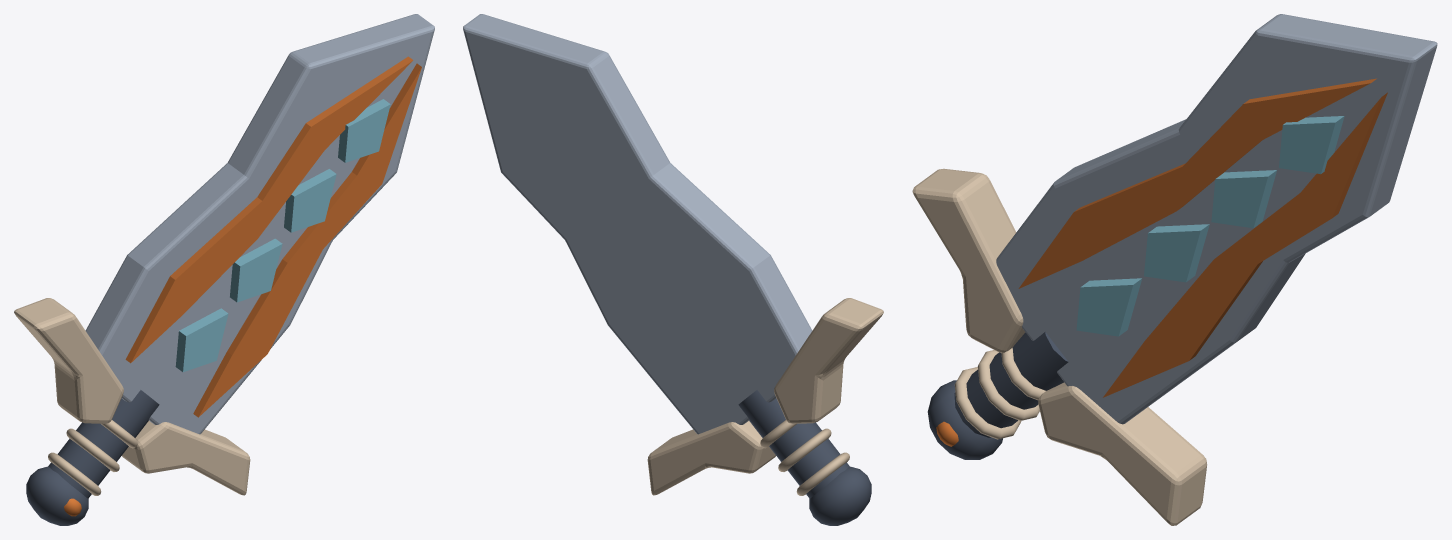
The model's file is emberblade.glb.
3 renders of one model, left to right at view 1: azimuth 30°, elevation 25°; view 2: azimuth 150°, elevation 25°; view 3: azimuth 330°, elevation 25°, orthographic. The views are drawn at different scales.
Visible parts, largest first — view 1: _cyl, _profile.007, _profile.001, _profile.003; view 2: _cyl, _profile.001; view 3: _cyl, _profile.007, _profile.001, _profile.003.
Part boxes in pixels (x1,y1,x2,y2): _cyl: [26, 14, 434, 525]; _profile.007: [64, 56, 421, 516]; _profile.001: [14, 298, 250, 495]; _profile.003: [175, 99, 390, 372]; _cyl: [463, 14, 871, 525]; _profile.001: [647, 298, 883, 495]; _cyl: [927, 14, 1437, 459]; _profile.007: [936, 78, 1387, 446]; _profile.001: [912, 168, 1207, 525]; _profile.003: [1076, 116, 1344, 336].
Size of the model in its own units: 0.9997 by 1 by 0.1544.
